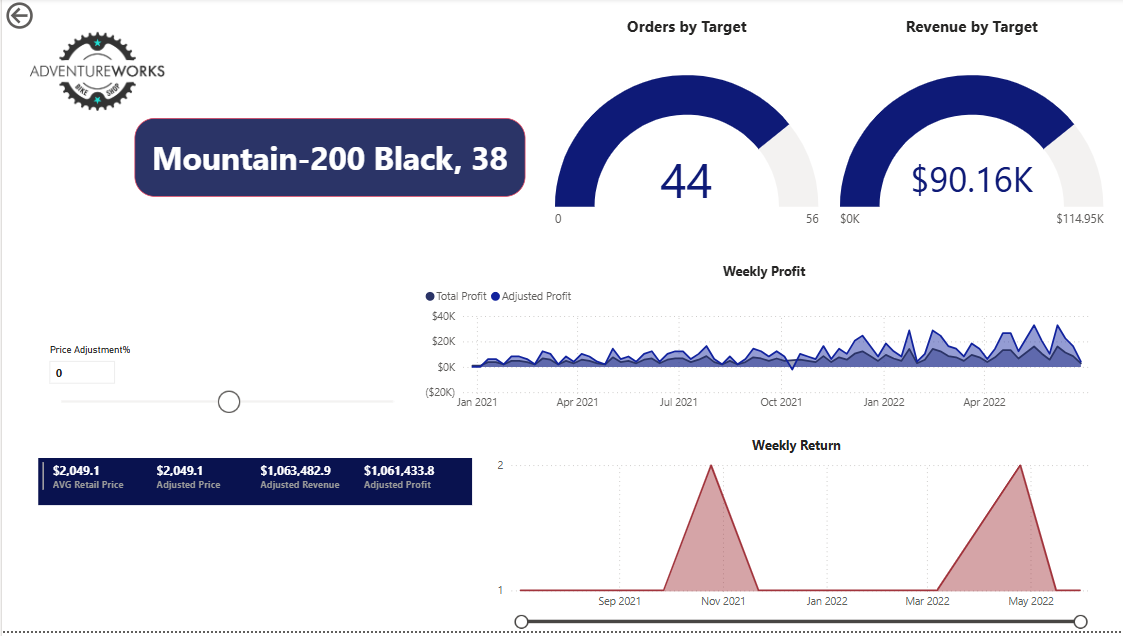

Layout of this report page (visuals, bound fields, positions):
{"tool":"powerbi","page":{"name":"Product details","canvas":[1280,720],"ordinal":2},"visuals":[{"type":"gauge","title":"Orders by Target","fields":{"Y":["Sales.Total Orders"],"MaxValue":["Sales.Order Target"]},"box":[624.7,20.4,309.8,291.1],"z":0},{"type":"gauge","title":"Revenue by Target","fields":{"Y":["Sales.Total Revenue"],"MaxValue":["Sales.Revenu Target"]},"box":[948.1,20.4,309.8,291.1],"z":1000},{"type":"card","fields":{"Values":["Min(AW Product Lookup.ProductName)"]},"box":[150.8,136.4,445.1,89.7],"z":2000},{"type":"actionButton","box":[0,0,100,40],"z":3000},{"type":"areaChart","title":"Weekly Profit","fields":{"Category":["AW Calendar Lookup.Start of Week"],"Y":["Sales.Total Profit","Sales.Adjusted Profit"]},"box":[476.6,299.6,781.3,178.7],"z":4000},{"type":"areaChart","title":"Weekly Return","fields":{"Category":["AW Calendar Lookup.Start of Week"],"Y":["Returns.Total Returns"]},"box":[551,497.1,707.1,222.6],"z":5000},{"type":"slicer","fields":{"Values":["Price Adjustment%.Price Adjustment%"]},"box":[41.4,388.8,426.6,117],"z":6000},{"type":"multiRowCard","fields":{"Values":["AW Product Lookup.AVG Retail Price","AW Product Lookup.Adjusted Price","Sales.Adjusted Revenue","Sales.Adjusted Profit"]},"box":[41.3,524.1,493.6,53.8],"z":7000},{"type":"image","box":[10,10,198,147.6],"z":8000}]}

Visuals, with their boxes in screenshot pixels (x1, y1, x2, y2), scaled from the page's 1280x720 canvas onto the 1123x636 screenshot:
"Orders by Target" gauge: {"left": 548, "top": 18, "right": 820, "bottom": 275}
"Revenue by Target" gauge: {"left": 832, "top": 18, "right": 1104, "bottom": 275}
card - Min(AW Product Lookup.ProductName): {"left": 132, "top": 120, "right": 523, "bottom": 200}
actionButton: {"left": 0, "top": 0, "right": 88, "bottom": 35}
"Weekly Profit" areaChart: {"left": 418, "top": 265, "right": 1104, "bottom": 422}
"Weekly Return" areaChart: {"left": 483, "top": 439, "right": 1104, "bottom": 635}
slicer - Price Adjustment%.Price Adjustment%: {"left": 36, "top": 343, "right": 411, "bottom": 447}
multiRowCard - AW Product Lookup.AVG Retail Price x AW Product Lookup.Adjusted Price: {"left": 36, "top": 463, "right": 469, "bottom": 510}
image: {"left": 9, "top": 9, "right": 182, "bottom": 139}
